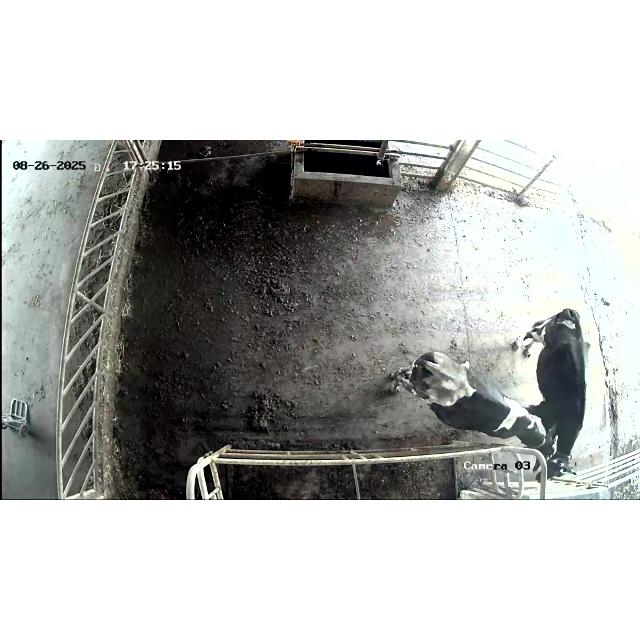stand: (400, 343, 556, 467), (512, 294, 584, 480)
